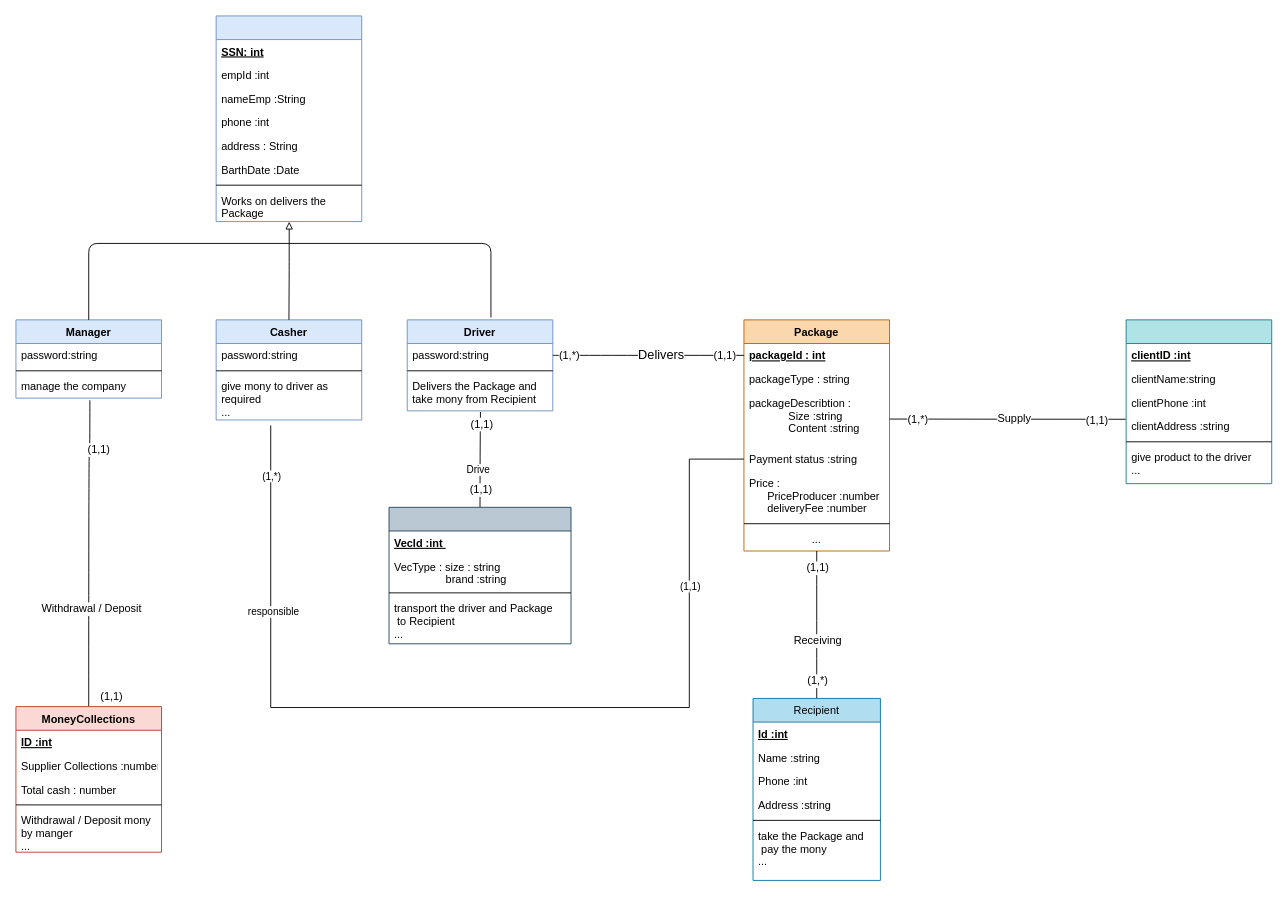
Some shapes in this 1288 by 899 pixel diagram are drawn without their labels. The shapes that lost their labels are listed below. From the top down, each one's box as (x1, y1, x2, y2) in pixels, then its label:
(215, 15, 362, 222): Employee
(1125, 319, 1272, 484): Client (Supplier)
(388, 506, 571, 644): Vehicles
